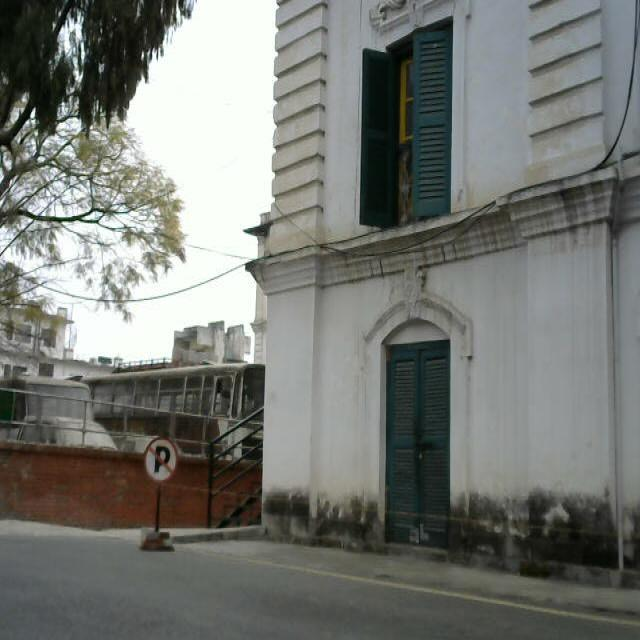Buildings: (263, 1, 640, 619)
NoParking: (138, 425, 186, 564)
Road: (5, 540, 640, 640)
trees: (0, 0, 205, 310)
